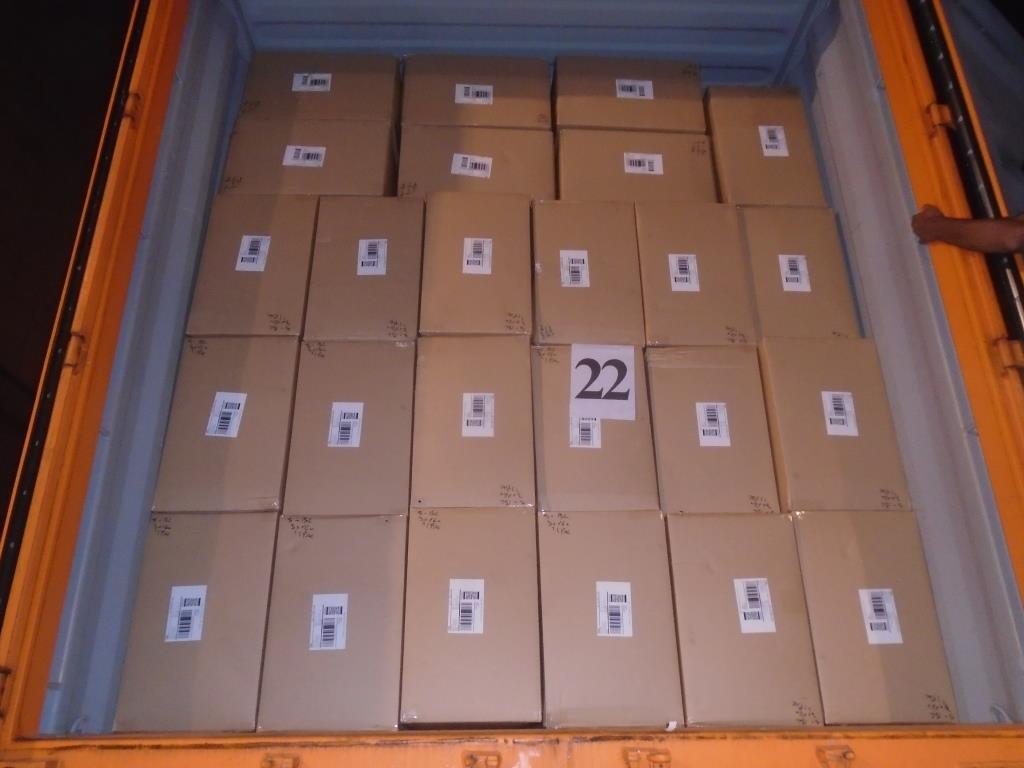carton: (112, 511, 279, 728), (791, 510, 957, 721), (664, 512, 822, 722), (256, 513, 408, 726), (397, 505, 544, 725), (538, 510, 686, 725), (755, 337, 912, 509), (152, 337, 301, 510), (281, 339, 416, 513), (646, 345, 781, 510), (407, 336, 537, 507), (531, 344, 660, 508), (187, 192, 321, 335), (630, 199, 757, 345), (303, 195, 425, 339), (531, 198, 647, 345), (418, 191, 533, 334), (734, 205, 860, 335), (704, 84, 825, 204), (221, 115, 392, 195), (552, 55, 706, 133), (397, 124, 554, 200), (558, 126, 716, 201), (400, 52, 551, 129), (241, 49, 400, 122)
